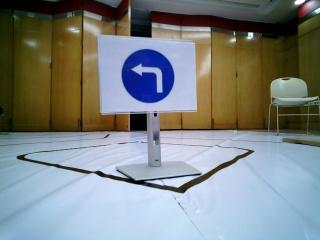left: (99, 39, 196, 110)
